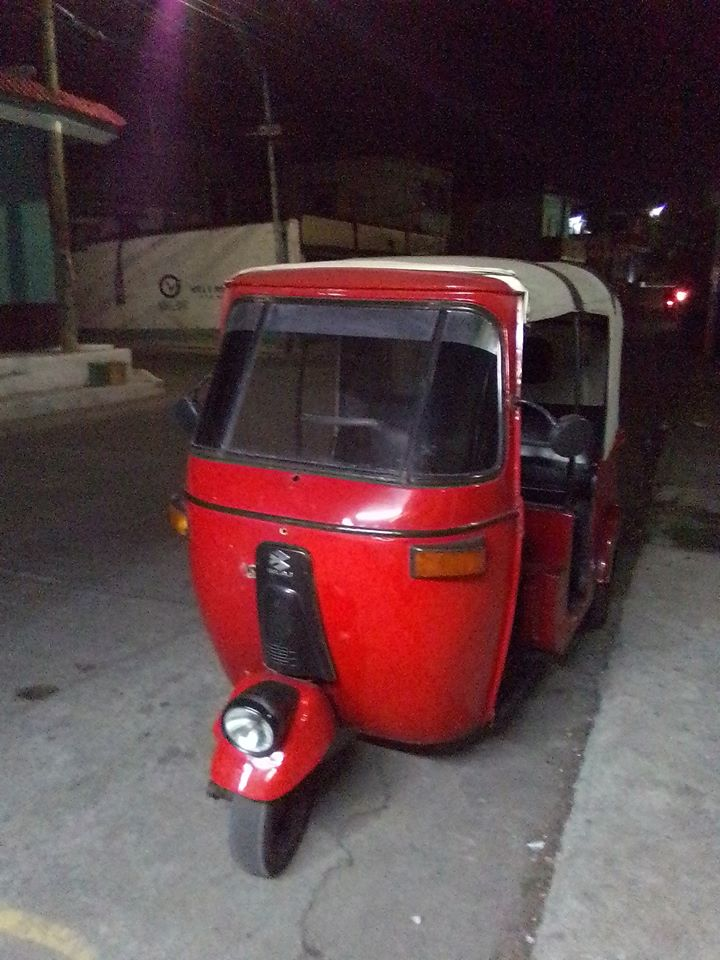mototaxi: (167, 252, 631, 880)
